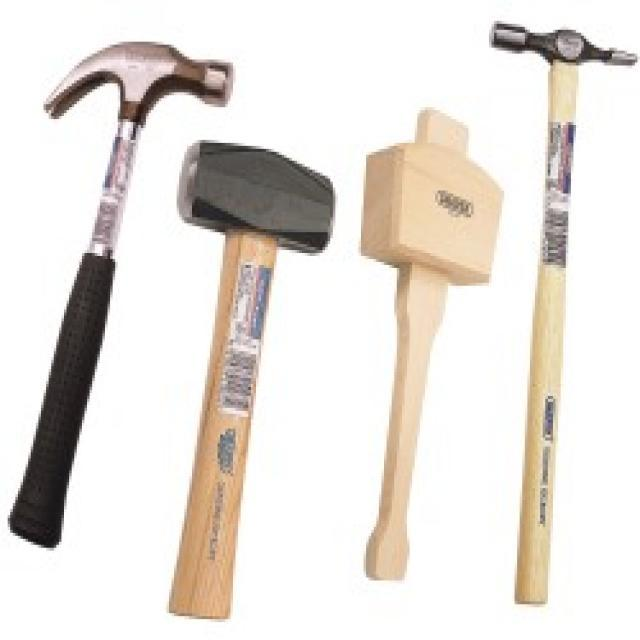hammer: (0, 31, 242, 554), (125, 130, 342, 630), (484, 8, 640, 616), (350, 104, 510, 596)
